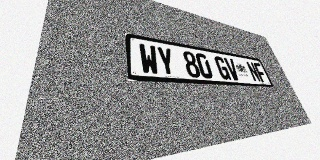0: (195, 52, 214, 79)
8: (182, 50, 201, 78)
F: (253, 62, 268, 82)
G: (213, 56, 232, 80)
N: (245, 61, 262, 82)
V: (223, 57, 241, 81)
W: (138, 43, 160, 75)
Y: (156, 46, 177, 76)
